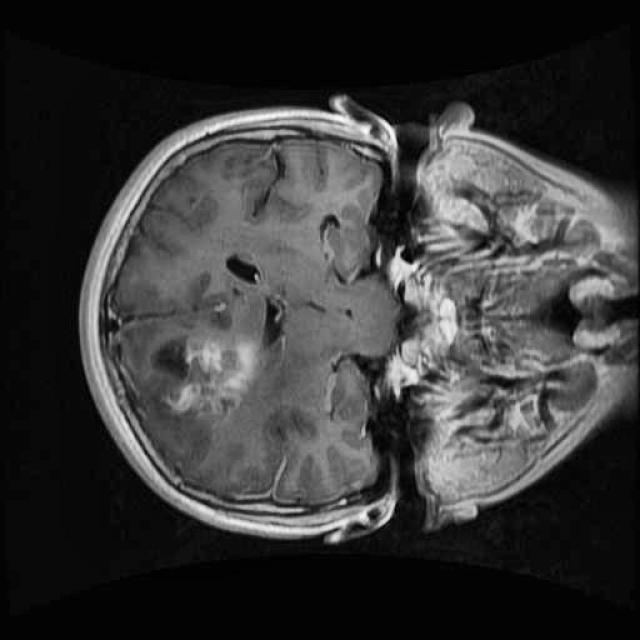Tumor: (140, 320, 269, 425)
